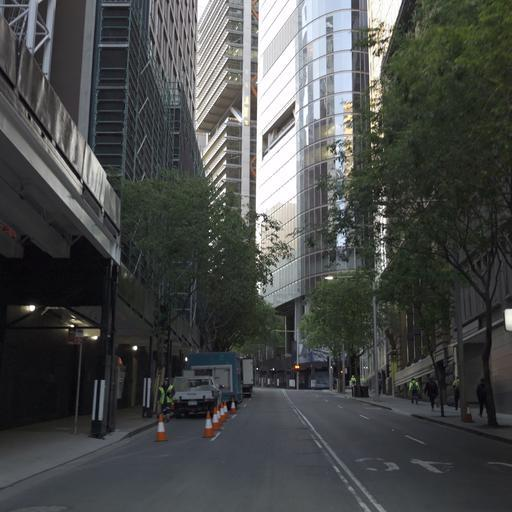Street light: (323, 271, 379, 400), (270, 328, 300, 389)
